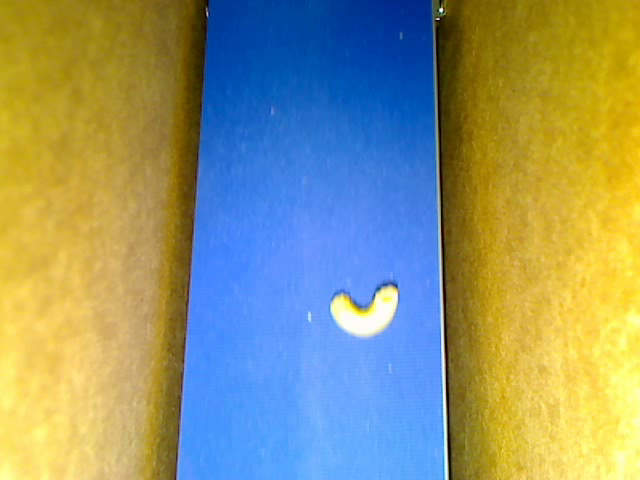elbow: (330, 282, 399, 339)
